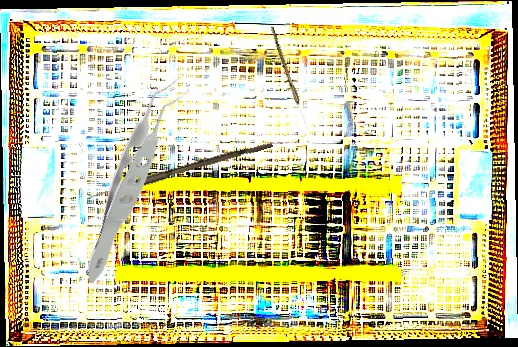Surgical Spoon: (86, 138, 274, 203), (268, 26, 311, 131)
Tissue Forceps: (21, 71, 252, 287)
